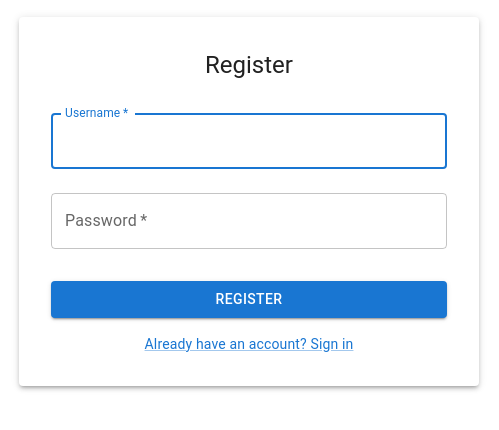
Register Component › clears field-specific errors on input change
Type "ab" into the field labelled "Username *" at point(249, 141), box [51, 113, 447, 169]
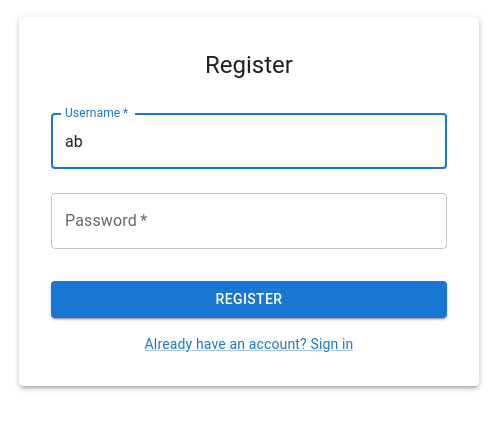
Type "ValidPass1!" into the password field labelled "Password *" at point(249, 221), box [51, 193, 447, 249]
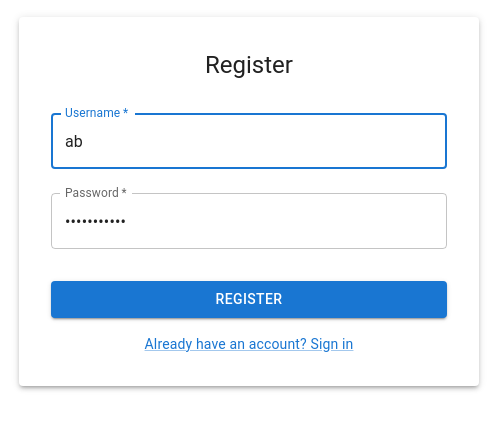
Submit the form from the button "Register", box [51, 281, 447, 318]
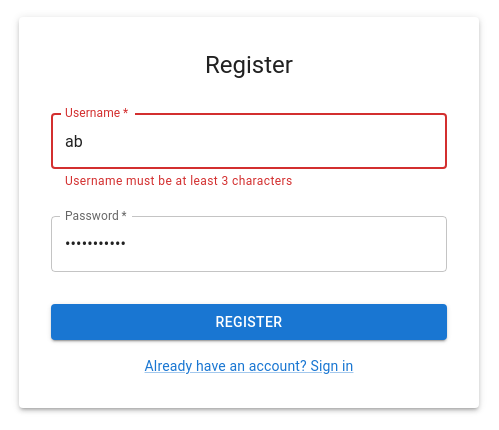
Now the text "Username must be at least 3 characters" is shown, box [65, 174, 293, 188]
Replace the text in the field labelled "Username *" with "validuser" at point(249, 141), box [51, 113, 447, 169]
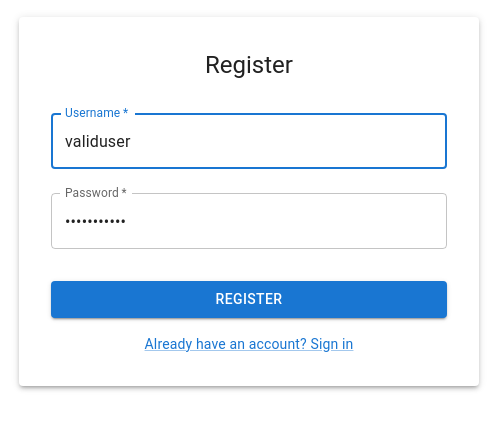
Now the text "Username must be at least 3 characters" is gone
